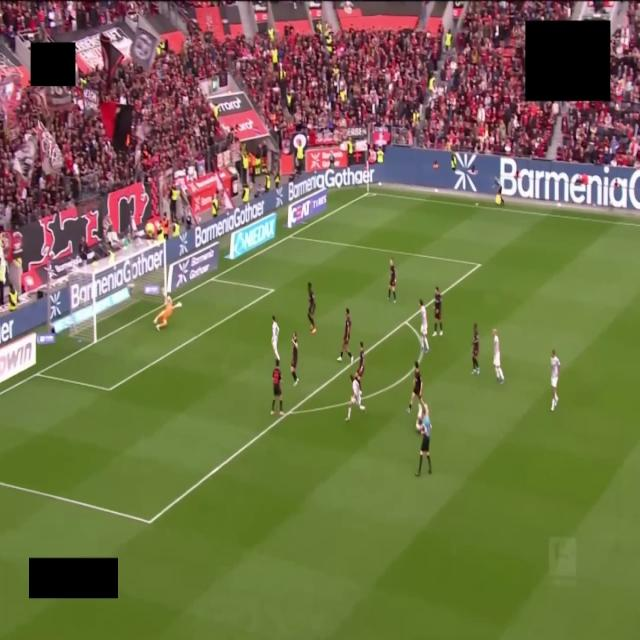player: (154, 297, 181, 330), (408, 361, 425, 412), (346, 375, 365, 420), (338, 309, 353, 362), (271, 360, 284, 416), (493, 329, 504, 383), (551, 350, 560, 411), (419, 299, 429, 352), (433, 287, 442, 335), (308, 282, 316, 334), (356, 342, 364, 390), (291, 333, 298, 385), (472, 324, 479, 375), (388, 259, 396, 303), (272, 316, 279, 359)
referee: (416, 406, 431, 476)
